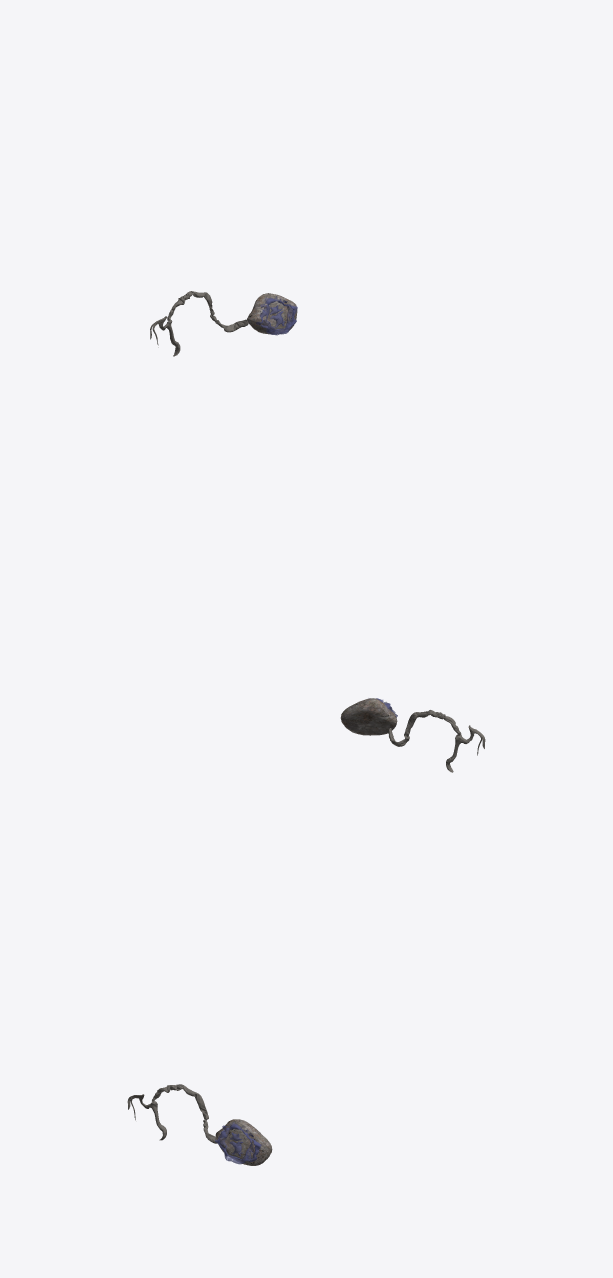
File: info_btn-BxXpAFbN.glb
The picture shows the model from 3 angles, top to bottom: view 1: azimuth 30°, elevation 25°; view 2: azimuth 150°, elevation 25°; view 3: azimuth 330°, elevation 25°; orthographic projection.
Parts seen in each view (by area): view 1: body, mech; view 2: body; view 3: body, mech.
Part boxes in pixels (<box>): body: <box>150,291,297,356</box>; mech: <box>256,296,297,335</box>; body: <box>340,698,485,772</box>; body: <box>127,1084,272,1165</box>; mech: <box>215,1122,261,1164</box>.
Bounding box in the file's own units: 3.98 × 1.66 × 0.2967.
Materials: 4 (2 with a texture image).
